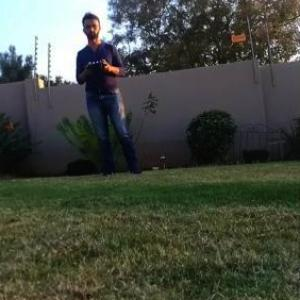follow: (72, 8, 149, 178)
